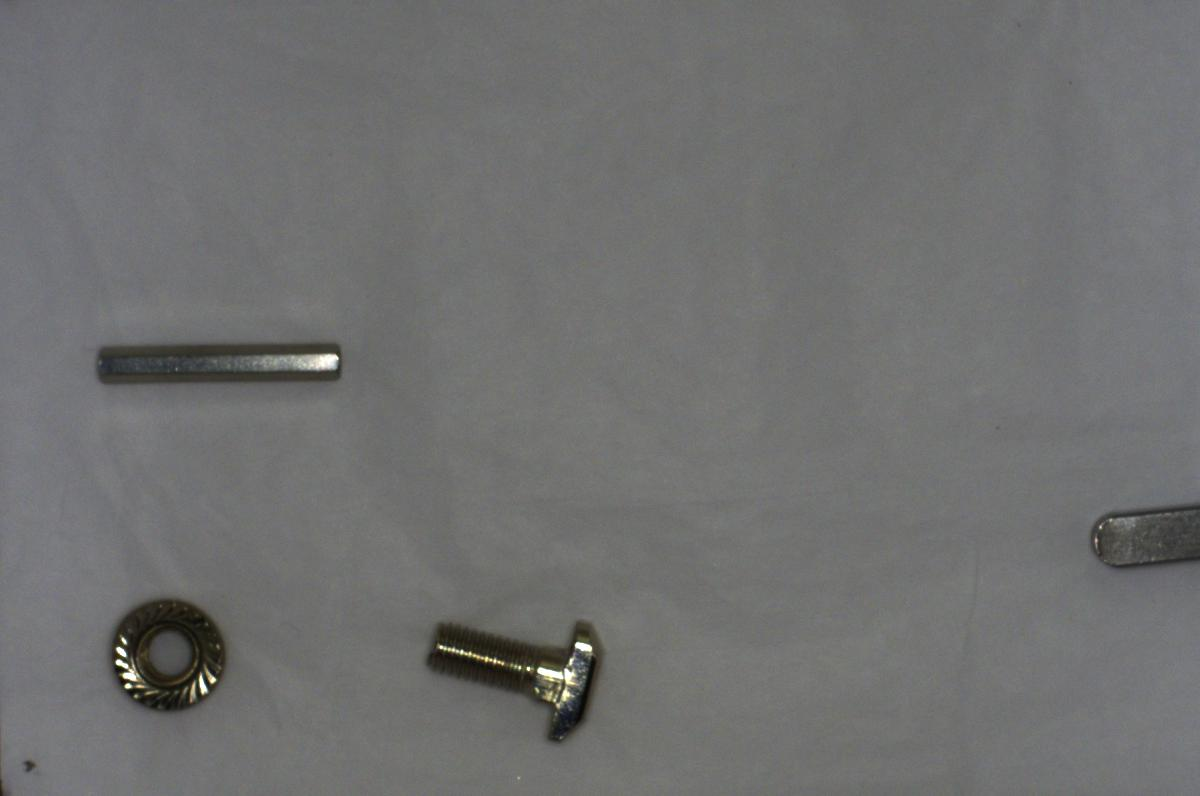Double hexagonal column: (81, 333, 353, 393)
Flange nut: (91, 587, 238, 713)
Keybar: (1086, 499, 1199, 576)
T-shaped screw: (414, 602, 610, 747)
